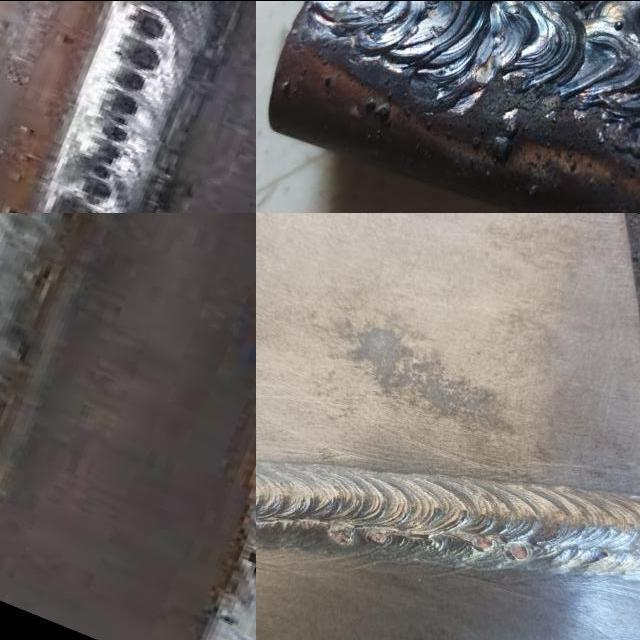defect: (75, 0, 172, 212), (327, 526, 355, 547), (507, 542, 530, 563), (210, 610, 238, 627), (362, 529, 390, 546), (240, 549, 256, 578), (419, 536, 442, 551), (475, 537, 495, 553), (422, 0, 440, 10), (289, 524, 298, 531)
